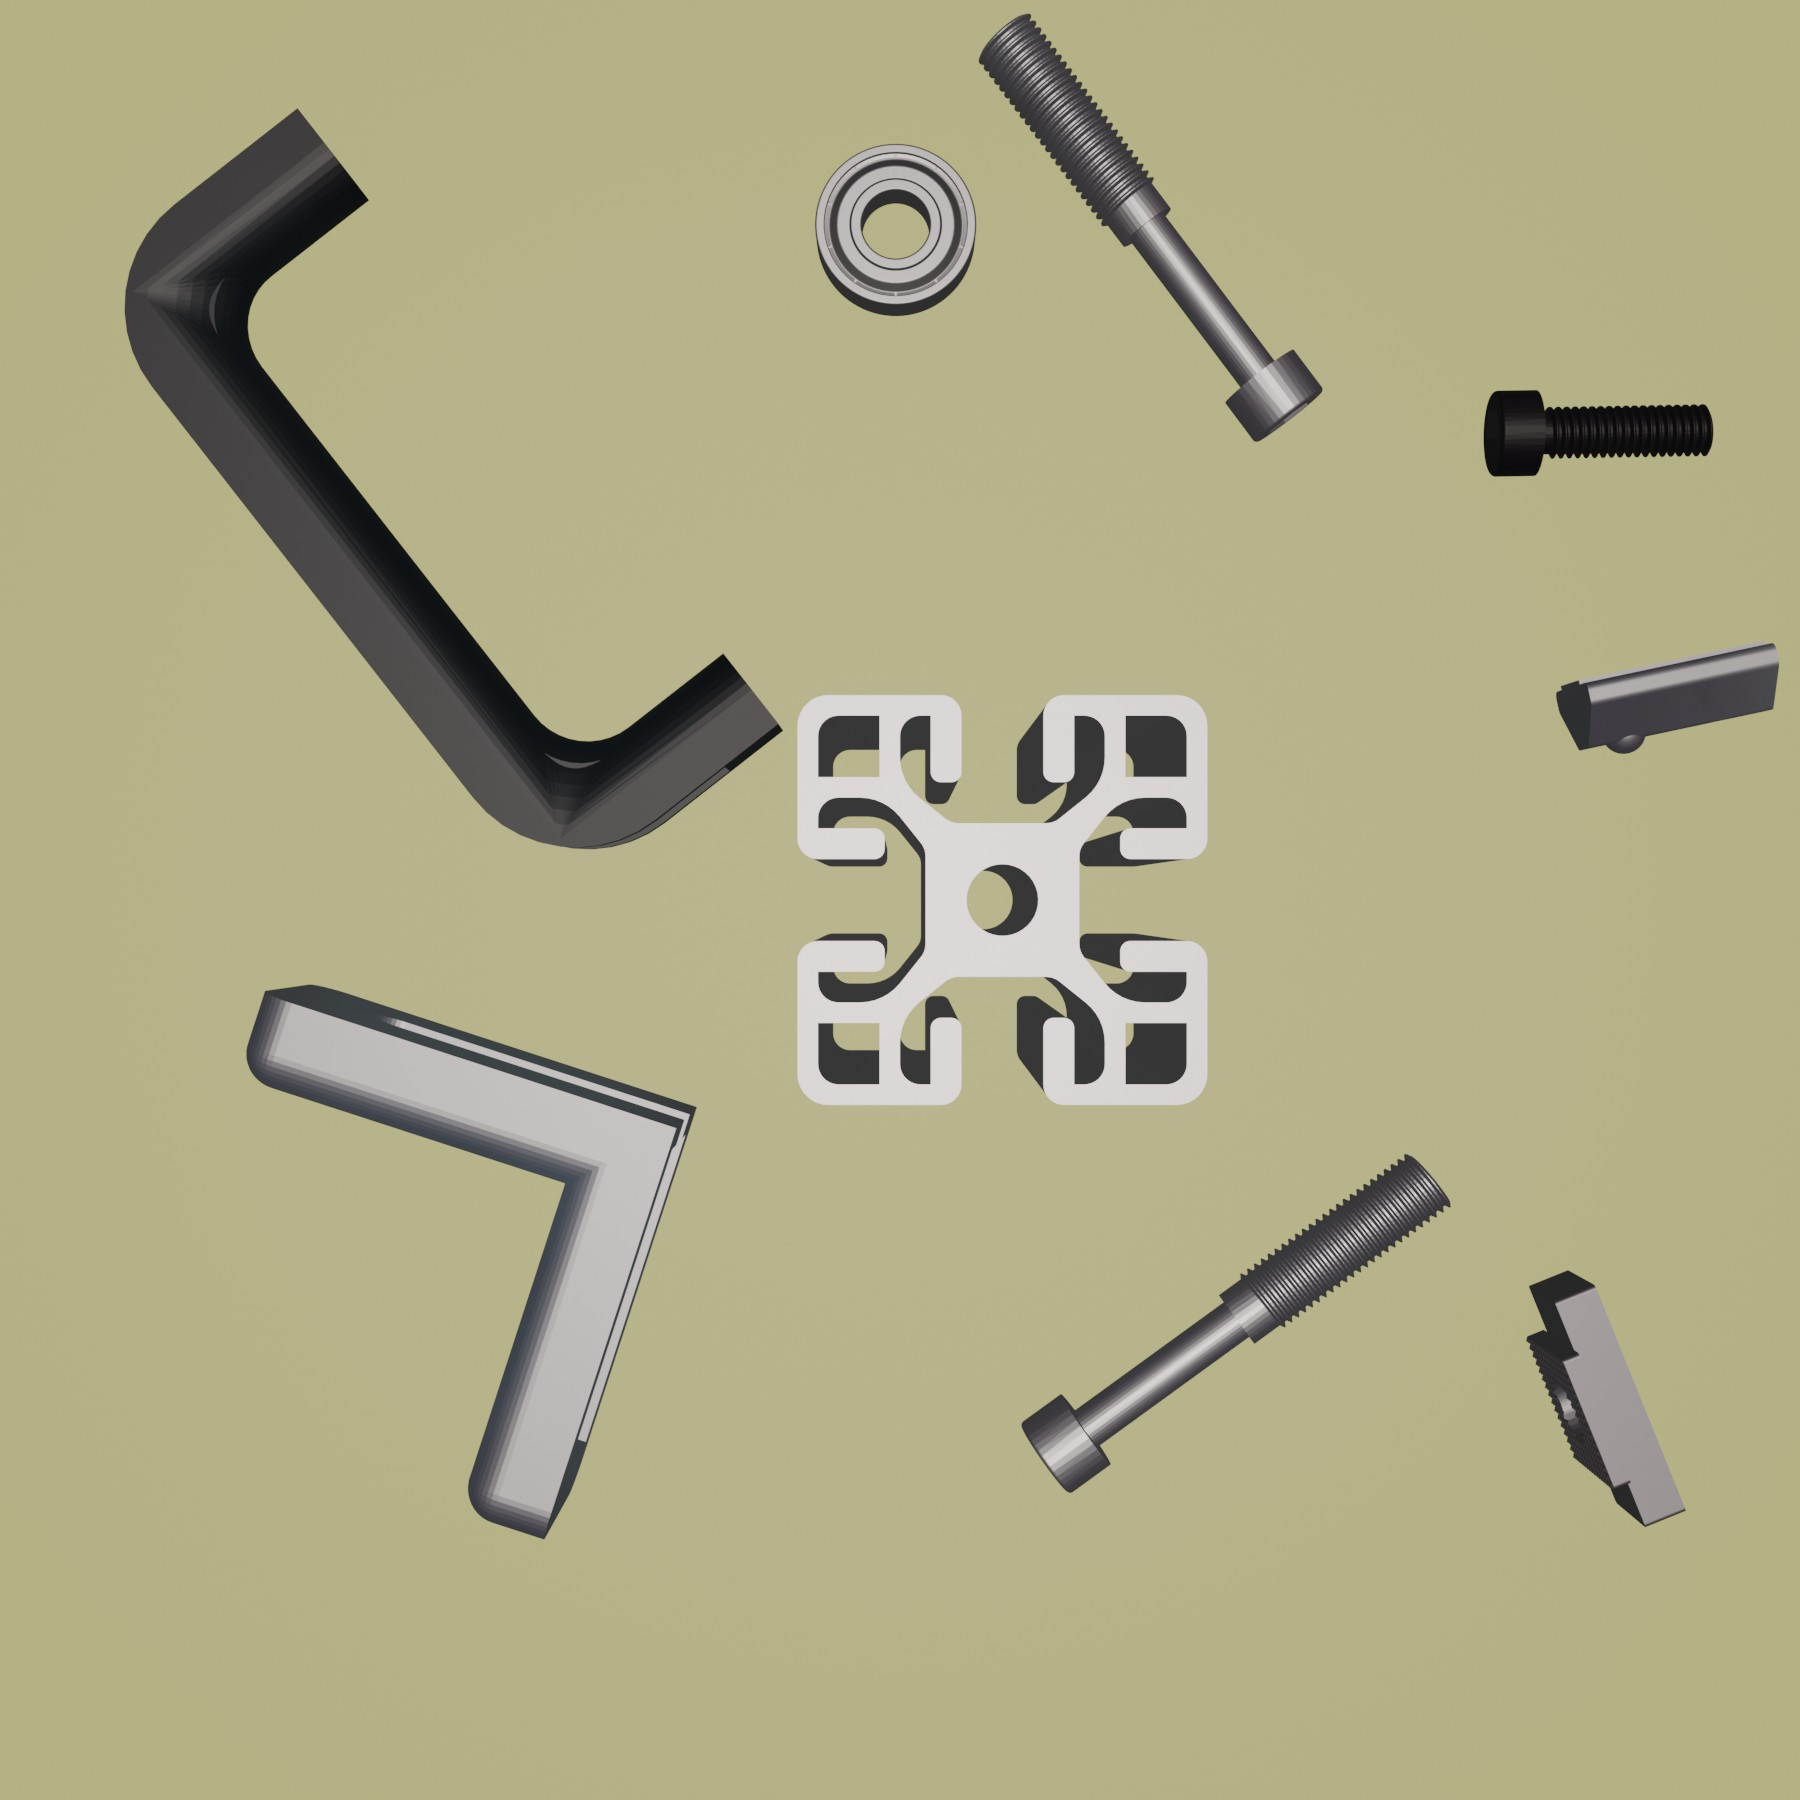Aluminium Extension: (791, 689, 1213, 1111)
Ball Bearing: (811, 138, 979, 318)
Multiwinkel: (242, 981, 697, 1543)
Pull Handle: (124, 104, 785, 851)
Shoulder Socket Head Cap Screw: (974, 8, 1325, 443), (1019, 1151, 1455, 1495)
Socket Head Cap Screw: (1480, 386, 1716, 478)
T Nut Square: (1523, 1266, 1688, 1531)
T Spring Nut: (1553, 640, 1784, 757)
